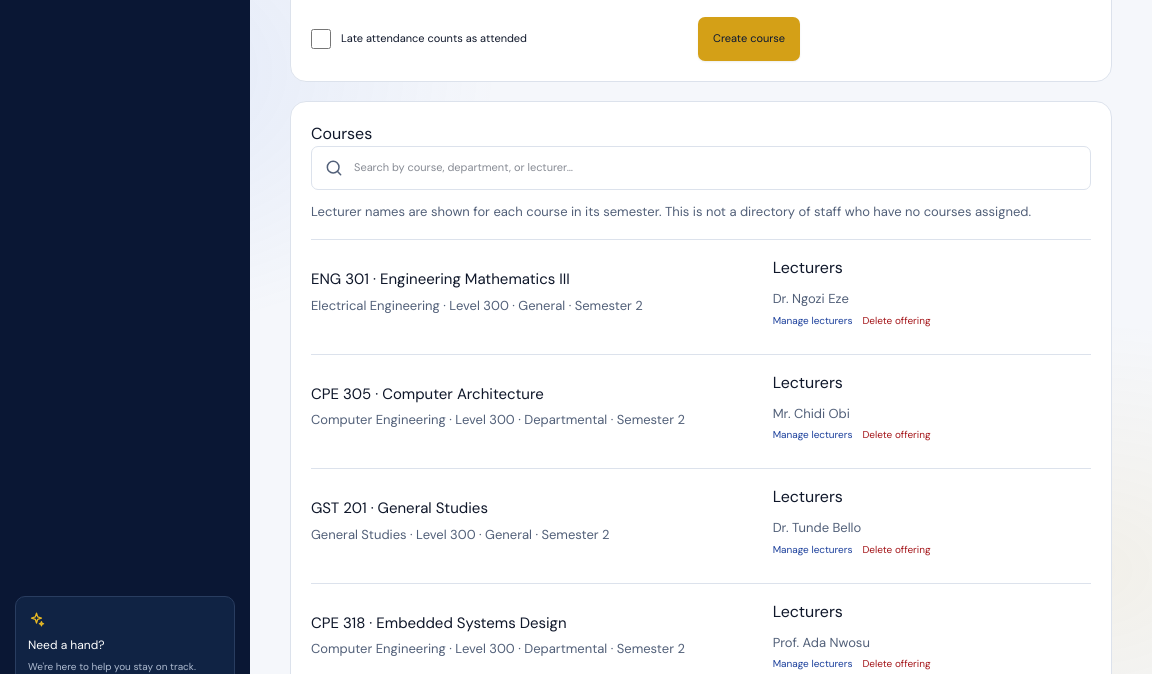
Campus Attendance screens › adds a lecturer without replacing the offering's current assignments
(page scrolled)
Click the button with aria-label "Manage lecturers for ENG 301": (813, 320) [773,313,852,328]
(page scrolled)
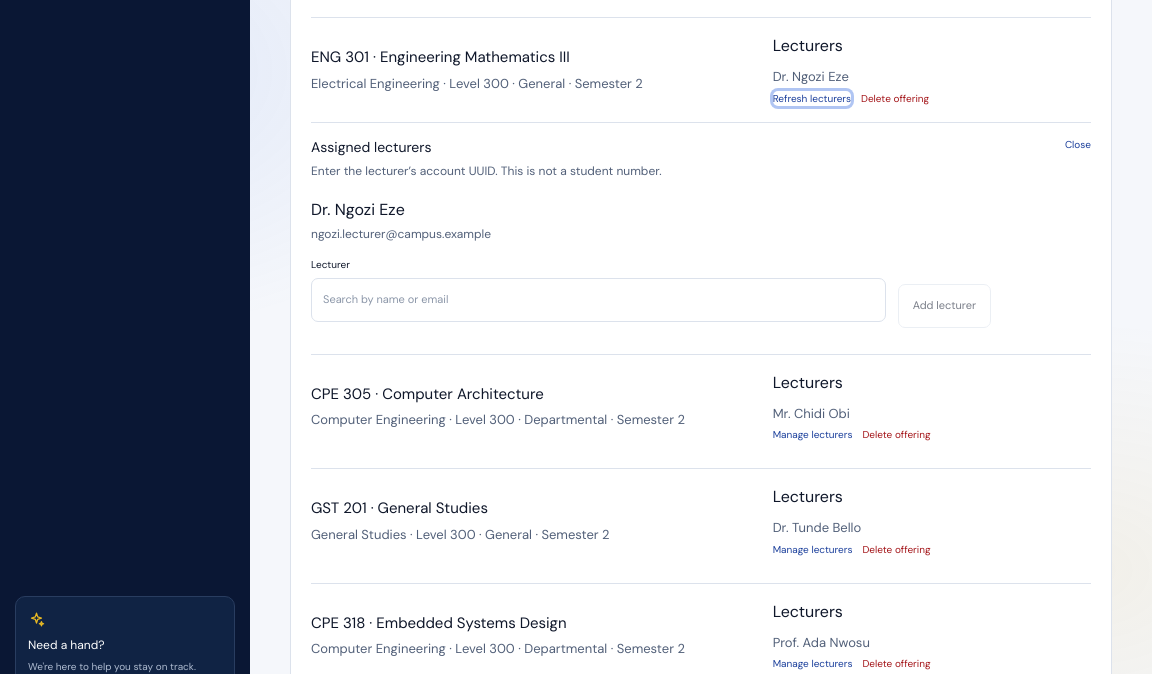
Check: the text "ngozi.lecturer@campus.example" is shown, box [311,226,491,242]
In the dropdown labelled "Lecturer": (598, 300) [311,278,886,322], type "Added"
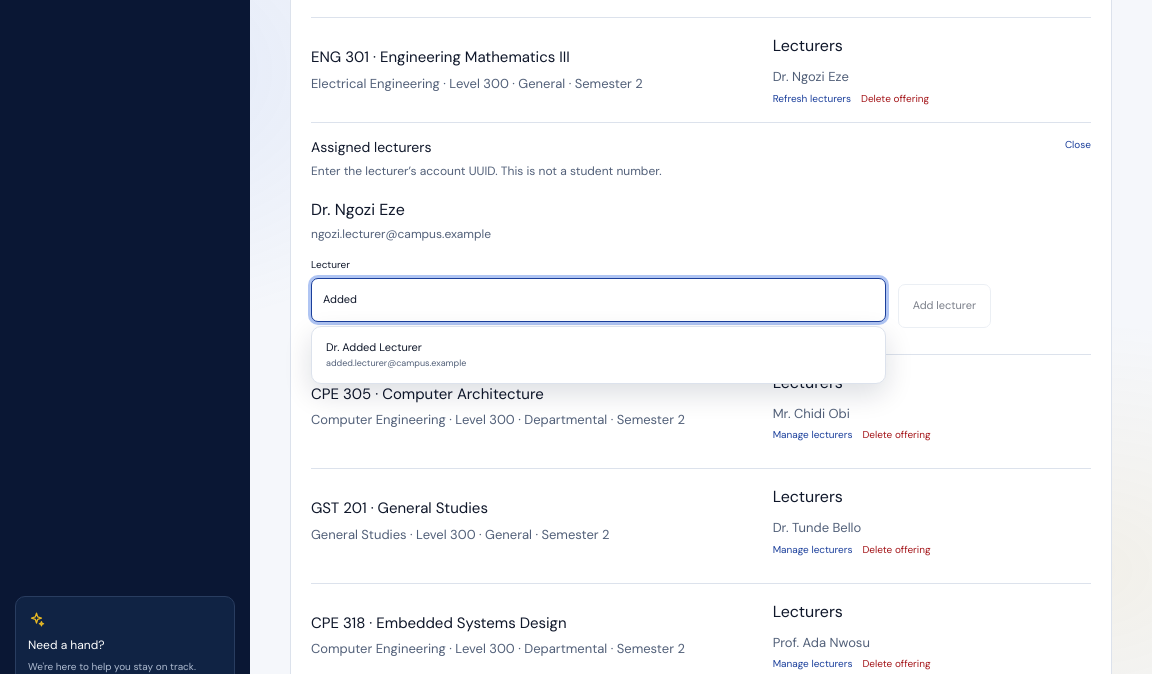
Click the option "Dr. Added Lecturer added.lecturer@campus.example": (374, 347) [316,331,881,379]
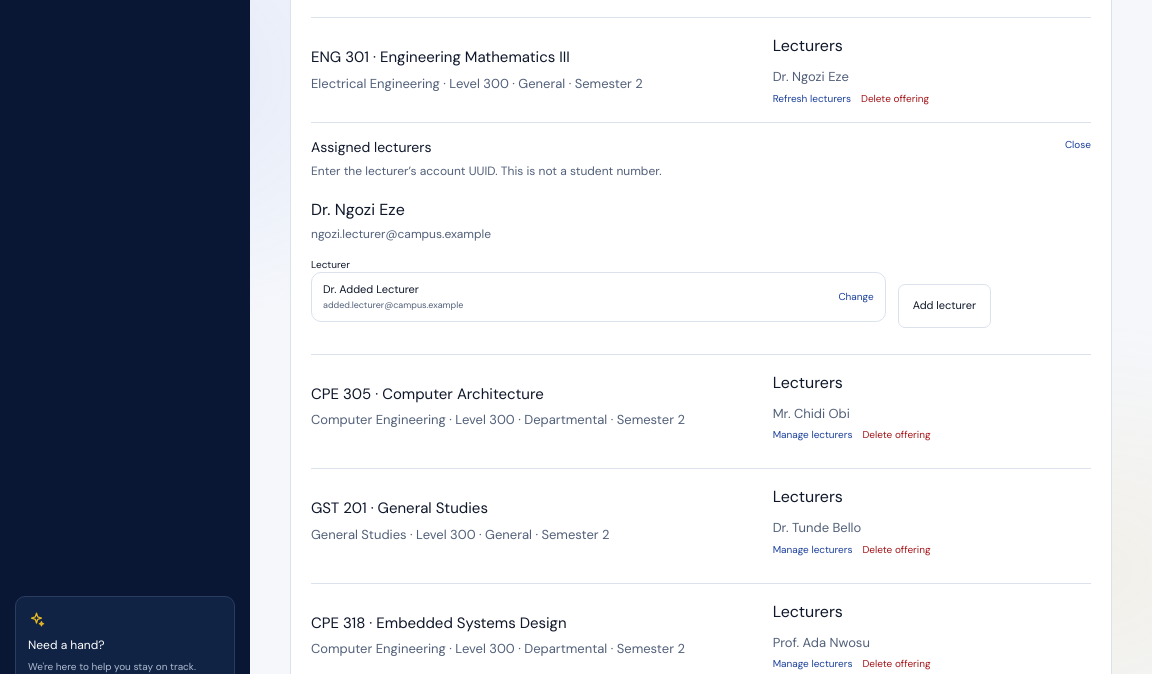
Click the button "Add lecturer": (944, 306) [898,284,991,328]
(page scrolled)
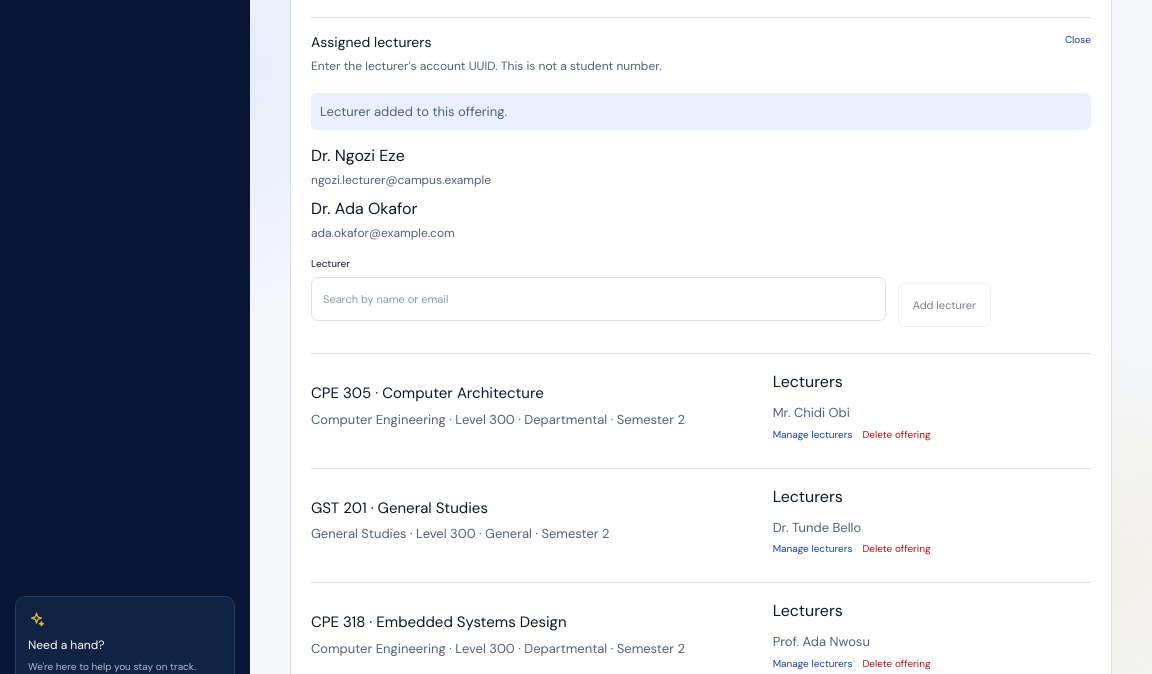
Check: the text "Lecturer added to this offering." is shown, box [311,93,1091,130]
Check: the text "Dr. Ada Okafor" is shown, box [311,198,418,219]
